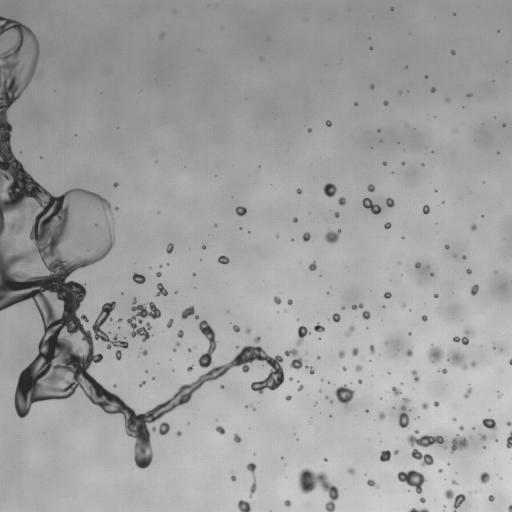droplet: (127, 298, 160, 341), (397, 470, 425, 493), (334, 384, 354, 409), (444, 489, 465, 511), (411, 448, 434, 466), (447, 350, 467, 370), (285, 348, 303, 369), (453, 328, 473, 344), (451, 434, 468, 451), (427, 345, 443, 363), (295, 325, 309, 345), (181, 306, 199, 319), (325, 229, 341, 243), (380, 450, 398, 462), (323, 183, 336, 197), (237, 500, 251, 511), (156, 283, 167, 296), (132, 273, 145, 283), (159, 422, 169, 435), (479, 472, 489, 483), (235, 206, 246, 215), (314, 323, 324, 332), (391, 386, 401, 395), (218, 256, 229, 264), (470, 284, 478, 295), (367, 479, 378, 487), (305, 365, 314, 374), (215, 426, 225, 434), (464, 387, 471, 398), (386, 198, 394, 207), (302, 232, 310, 241), (308, 261, 316, 270), (362, 310, 370, 319), (332, 313, 340, 322), (346, 326, 354, 335), (166, 243, 173, 253), (338, 197, 346, 205), (273, 296, 281, 304), (233, 434, 241, 442), (422, 205, 429, 214), (166, 319, 173, 327), (369, 345, 375, 354), (384, 222, 391, 229), (232, 325, 239, 332), (355, 364, 362, 371), (348, 467, 355, 474), (352, 347, 358, 355), (338, 350, 344, 358), (368, 184, 374, 191), (384, 292, 391, 298), (177, 330, 183, 337), (406, 349, 412, 356), (421, 403, 428, 409), (379, 412, 385, 419), (284, 500, 291, 506), (325, 120, 331, 126), (421, 315, 427, 321), (187, 365, 193, 371), (297, 385, 303, 391), (488, 495, 494, 501), (440, 368, 447, 373), (296, 188, 301, 194), (471, 224, 476, 230), (415, 262, 420, 268), (245, 328, 250, 334), (470, 361, 475, 367), (285, 395, 291, 400), (420, 497, 425, 503), (430, 87, 435, 92), (334, 212, 339, 217), (466, 269, 471, 274), (287, 299, 292, 304), (142, 350, 147, 355), (140, 381, 145, 386), (250, 405, 255, 410), (176, 431, 181, 436), (481, 434, 486, 439), (231, 475, 235, 481), (466, 93, 471, 97), (383, 101, 388, 105), (293, 217, 297, 222), (19, 223, 23, 228), (156, 272, 161, 276), (434, 401, 438, 406), (452, 480, 457, 484), (508, 505, 511, 511), (451, 50, 455, 54), (370, 84, 374, 88), (307, 128, 311, 132), (114, 182, 118, 186), (21, 214, 25, 218), (445, 245, 449, 249), (462, 255, 466, 259), (434, 294, 438, 298), (342, 366, 346, 370), (358, 379, 362, 383), (459, 426, 463, 430), (498, 393, 501, 398), (445, 98, 449, 101), (382, 162, 386, 165), (401, 162, 405, 165), (118, 318, 121, 322), (176, 342, 179, 346), (325, 395, 328, 399), (329, 400, 333, 403), (507, 422, 511, 425), (438, 469, 442, 472), (390, 7, 393, 10), (354, 102, 357, 105), (502, 123, 505, 126), (202, 245, 205, 248), (430, 273, 433, 276), (402, 303, 405, 306), (188, 348, 191, 351), (289, 377, 292, 380), (220, 385, 223, 388), (365, 409, 368, 412), (452, 418, 455, 421), (152, 427, 155, 430), (160, 34, 163, 36), (115, 207, 118, 209), (239, 227, 242, 229), (192, 273, 195, 275), (342, 306, 344, 309), (500, 348, 502, 351), (317, 356, 319, 359), (324, 458, 326, 461), (370, 47, 372, 49), (159, 265, 161, 267), (175, 291, 177, 293), (382, 305, 384, 307), (173, 349, 175, 351), (319, 390, 321, 392), (315, 402, 317, 404)
ligament: (0, 16, 283, 468), (297, 468, 339, 511), (407, 430, 444, 447), (482, 418, 498, 441), (398, 398, 409, 428), (247, 462, 256, 496), (362, 198, 381, 214), (411, 370, 419, 382), (506, 431, 511, 448), (408, 508, 428, 511), (352, 304, 363, 309), (509, 359, 511, 365)
